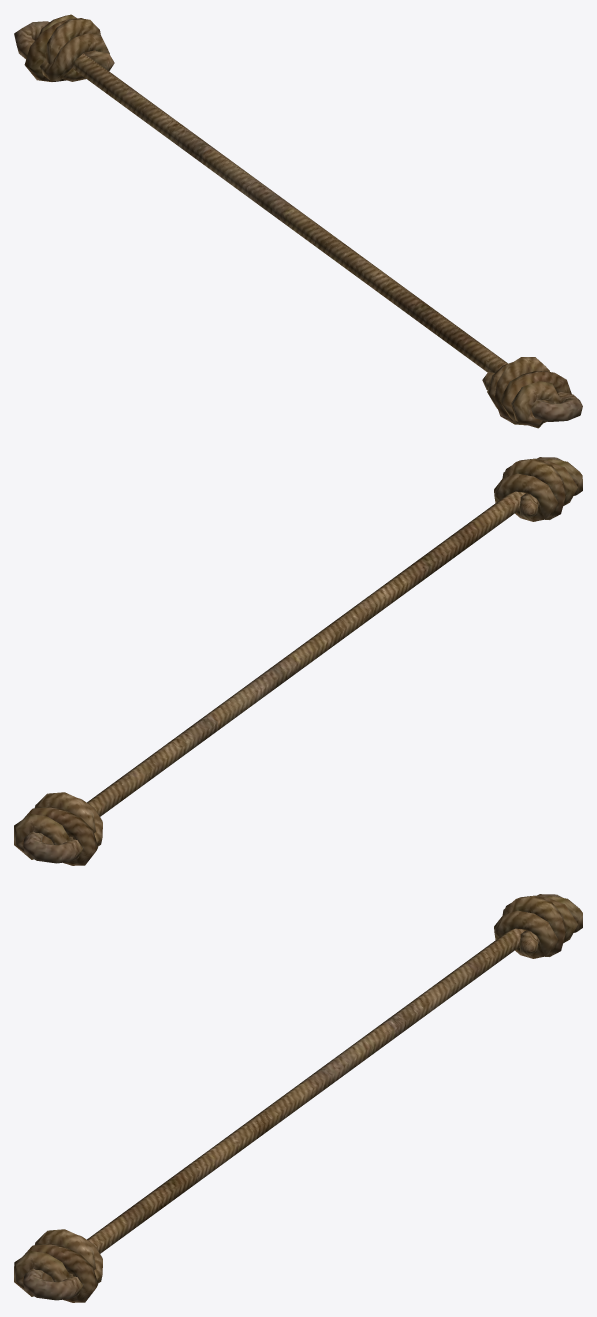
3 renders of one model, top to bottom at view 1: azimuth 30°, elevation 25°; view 2: azimuth 150°, elevation 25°; view 3: azimuth 330°, elevation 25°, orthographic.
Visible parts, largest first — view 1: SM_Moon_Garou_Overhang_Rope_01_LOD0; view 2: SM_Moon_Garou_Overhang_Rope_01_LOD0; view 3: SM_Moon_Garou_Overhang_Rope_01_LOD0.
Part boxes in pixels (x1,y1,x2,y2): SM_Moon_Garou_Overhang_Rope_01_LOD0: (14,14,582,428); SM_Moon_Garou_Overhang_Rope_01_LOD0: (14,457,582,865); SM_Moon_Garou_Overhang_Rope_01_LOD0: (14,894,582,1302).
Size of the model in its own units: 0.3379 by 0.2786 by 4.18.
Materials: 1 (1 with a texture image).
